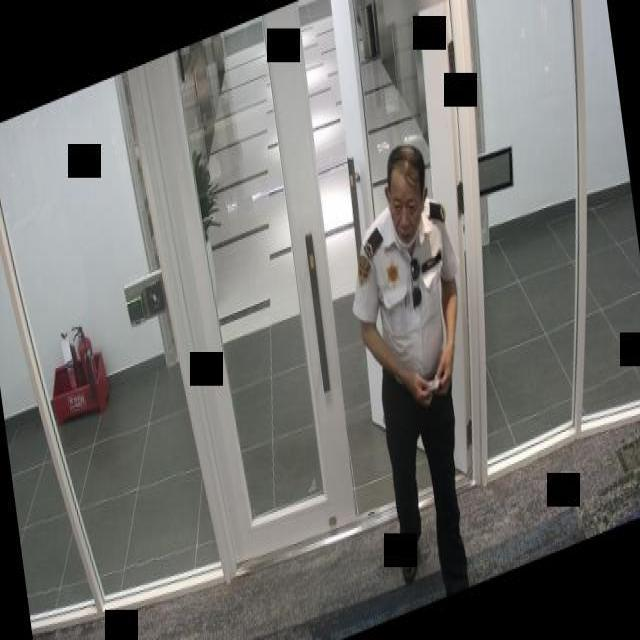hairnet: (388, 188, 423, 252)
